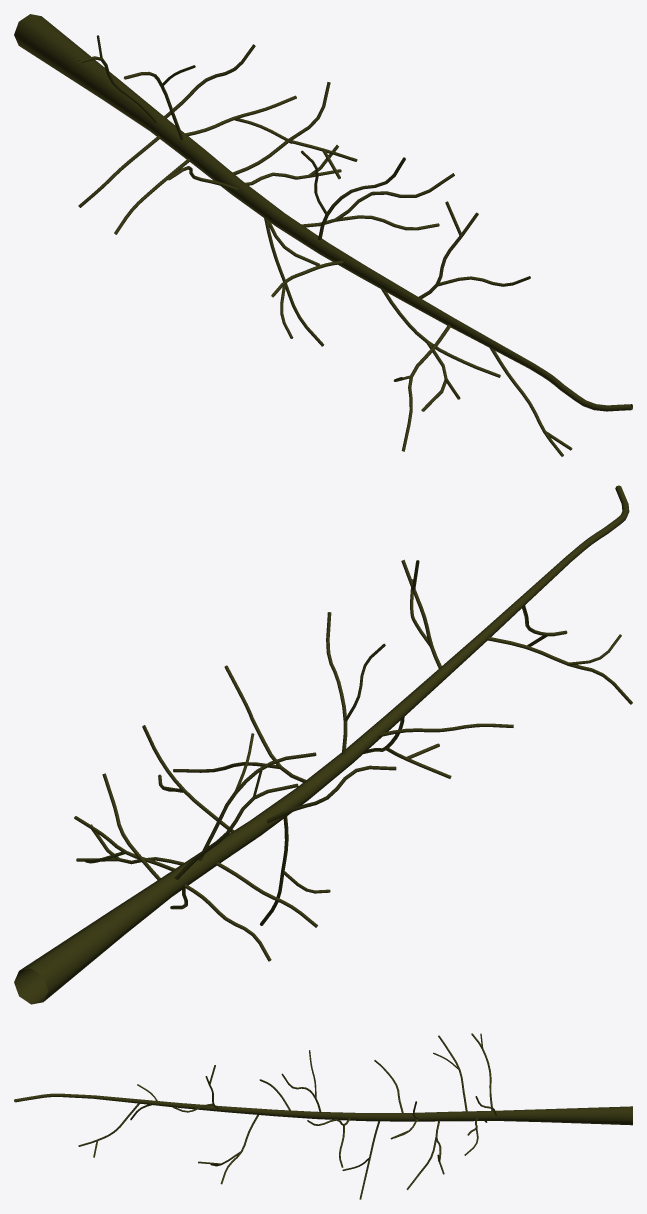
File: tree.obj
3 renders of one model, top to bottom at view 1: azimuth 30°, elevation 25°; view 2: azimuth 150°, elevation 25°; view 3: azimuth 270°, elevation 25°, orthographic. The views are drawn at different scales.
Parts seen in each view (by area): view 1: tree; view 2: tree; view 3: tree.
Boxes of the visible parts, x1,y1,x2,y2 form: tree: (14, 14, 632, 456); tree: (14, 485, 632, 1004); tree: (14, 1033, 632, 1199).
Bounding box in the file's own units: 0.6367 × 0.6375 × 2.61.
